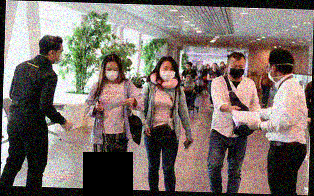with_mask: (229, 62, 247, 81), (159, 65, 176, 83), (104, 65, 120, 82), (267, 63, 277, 85), (52, 47, 64, 65), (220, 62, 225, 67), (207, 64, 211, 70)
without_mask: (212, 62, 219, 70), (185, 75, 191, 83), (185, 64, 192, 70)
